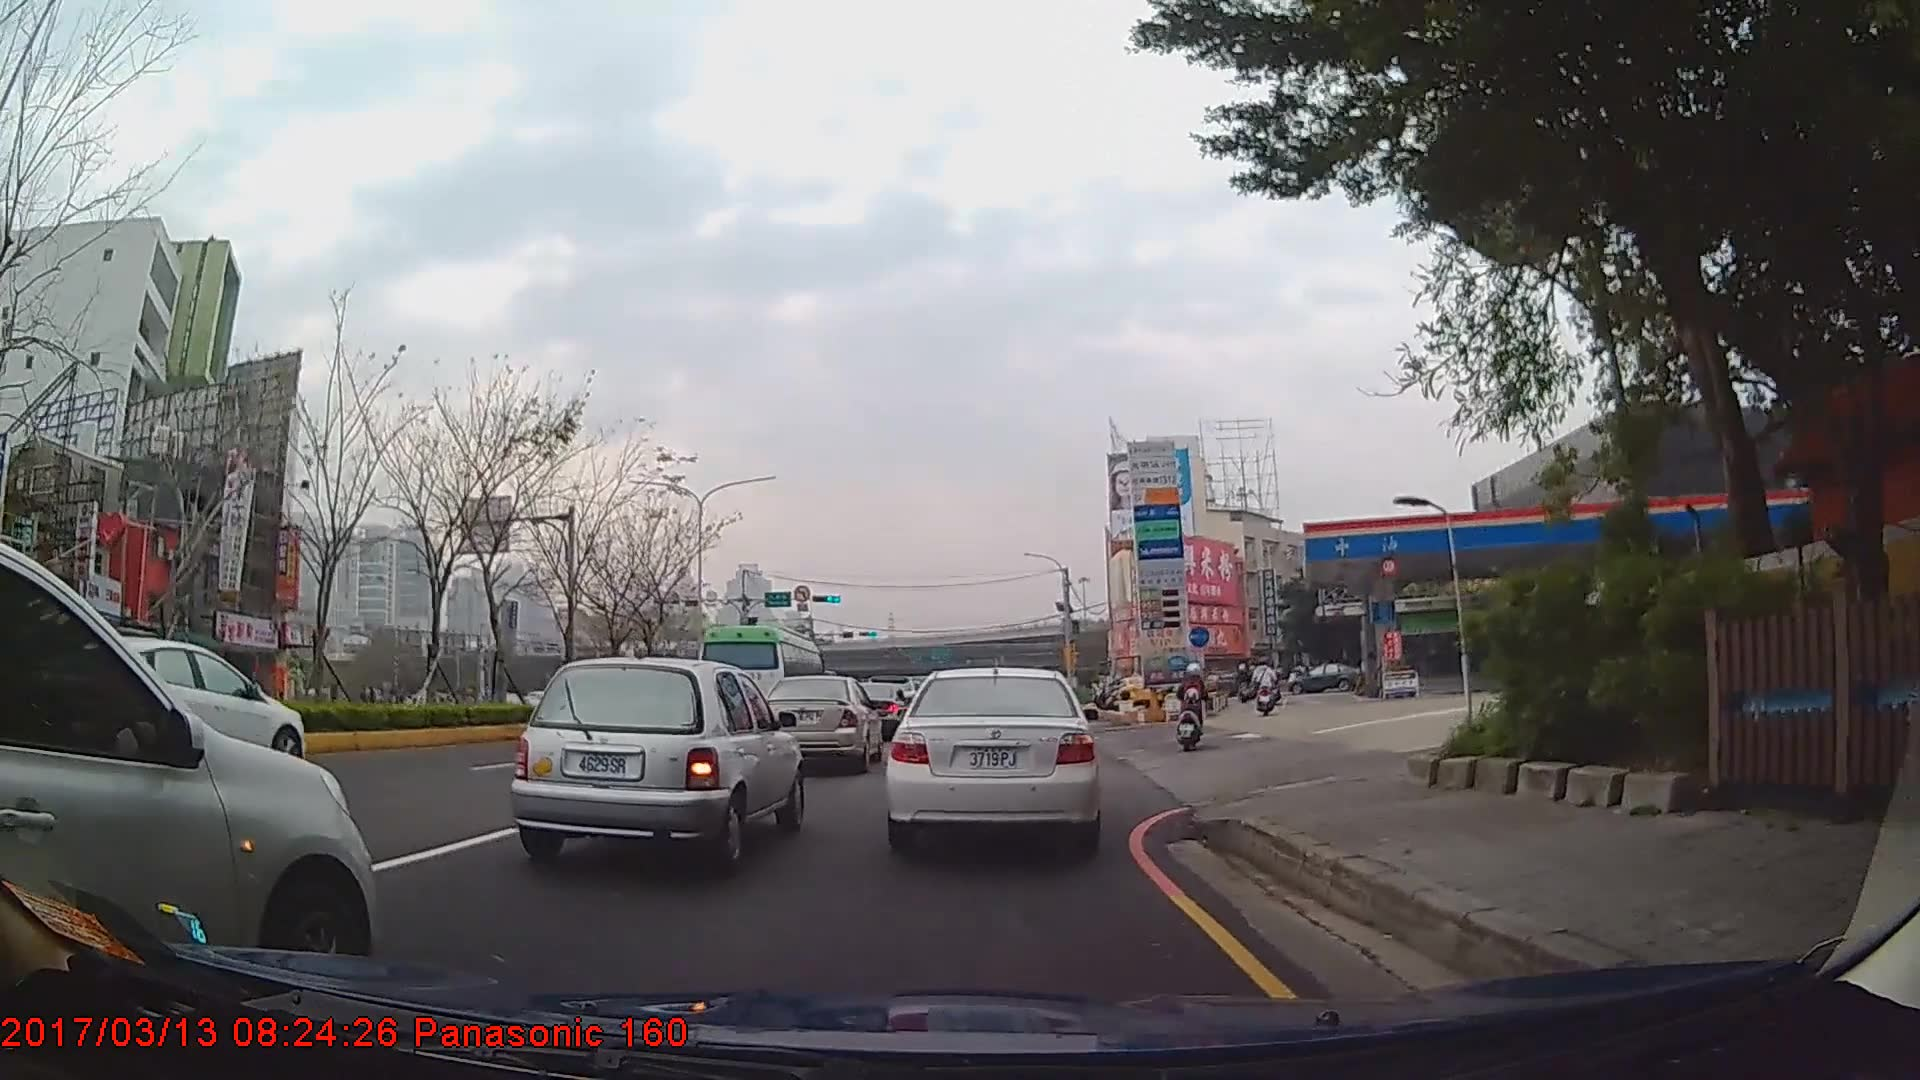rider: (1176, 662, 1210, 754), (1251, 656, 1279, 715)
vehicle: (0, 545, 382, 996), (507, 654, 807, 872), (883, 661, 1100, 853), (66, 634, 305, 764), (696, 623, 824, 727), (754, 674, 882, 770), (1289, 662, 1360, 693)
